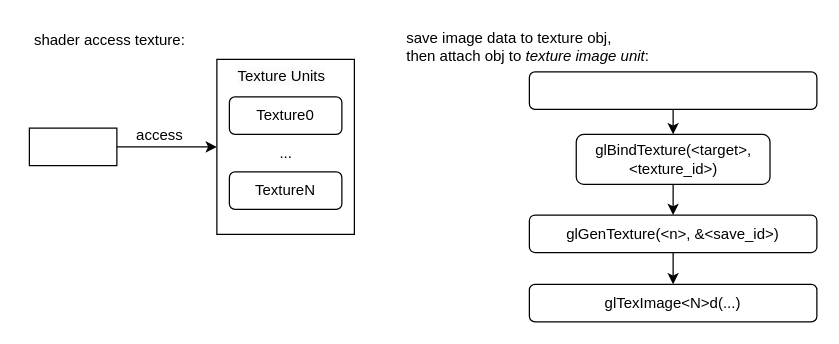
Some shapes in this 839 by 344 pixel diagram are drawn without their labels. The shapes that lost their labels are listed below. From the top down, each one's centre as x and y in pixels, then its label:
At [672,90]: "glActiveTexture(GL_TEXTURE<N>)".
At [72,146]: "shaders".
